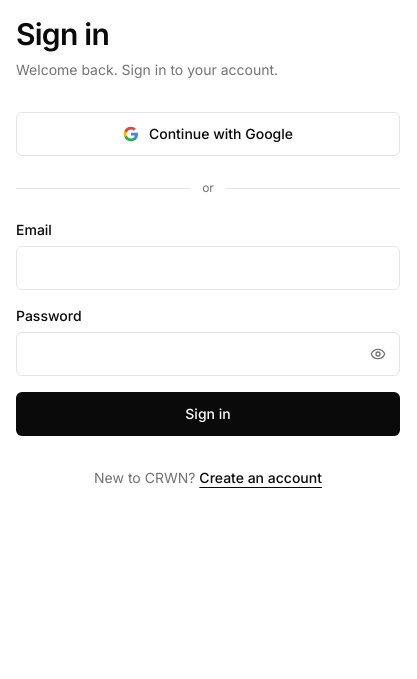
SignInAndSignUpPage › switches to sign-up and back
Step 1. Click the link "Create an account" → (261, 478), box [199,469,322,486]
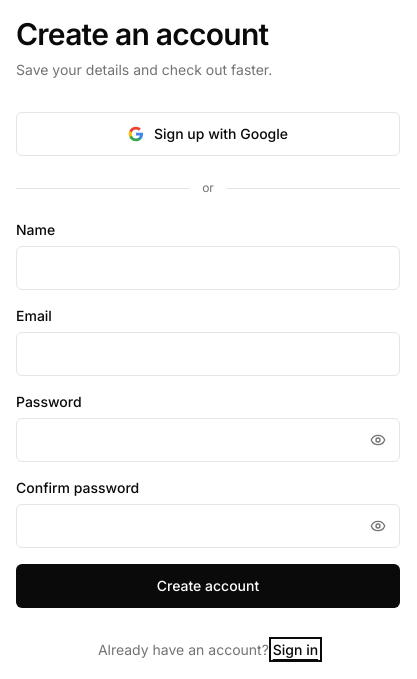
Expected: the heading "Create an account" is shown, [16,16,268,52]
Expected: the password field labelled "Confirm password" is shown, [16,504,400,548]
Step 2. Click the link "Sign in" → (296, 650), box [273,641,318,658]
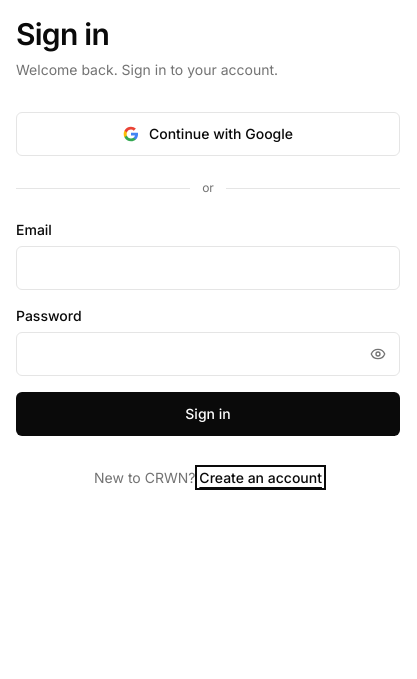
Expected: the heading "Sign in" is shown, [16,16,109,52]
